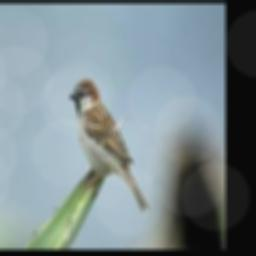Sparrow: (69, 77, 149, 211)
